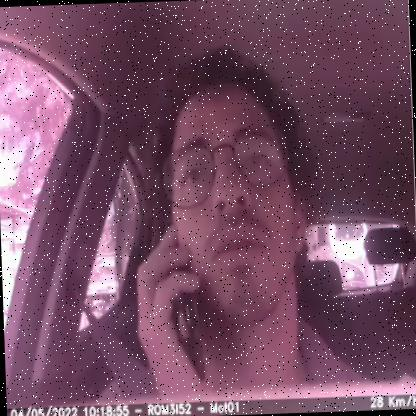phone: (148, 212, 215, 390)
